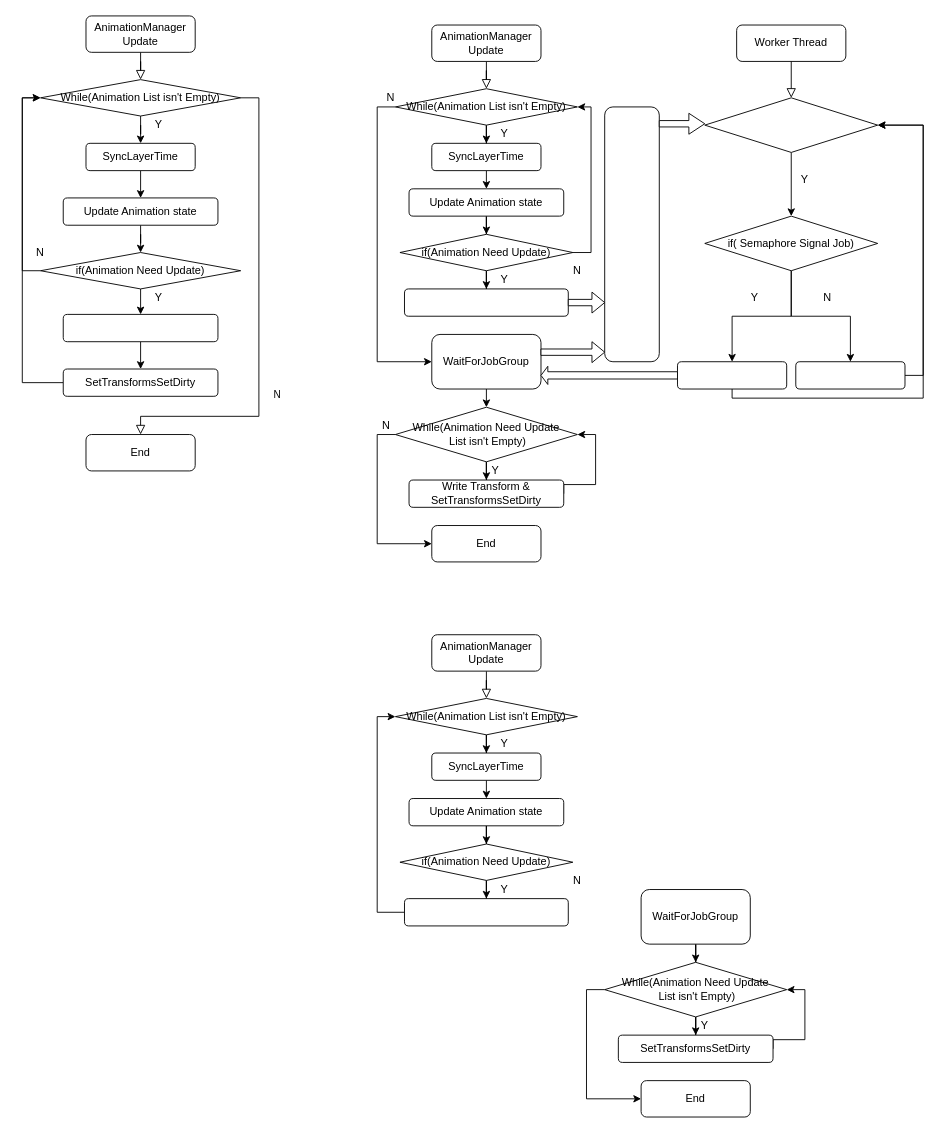
Image size: 946x1133. Some labels were removed from this diagram. Each missing label, with the box of its shape:
Add To Job Animation List by Transform: (404, 898, 568, 926)
Create a Job for Sampling Clip: (404, 288, 568, 316)
Exce a Job: (795, 361, 905, 389)
if(Try to get a Job): (704, 97, 878, 152)
Job Queue: (604, 106, 659, 362)
Samlpe Clip & Write Transform: (62, 313, 218, 342)
Semaphore Signal: (677, 361, 787, 389)
